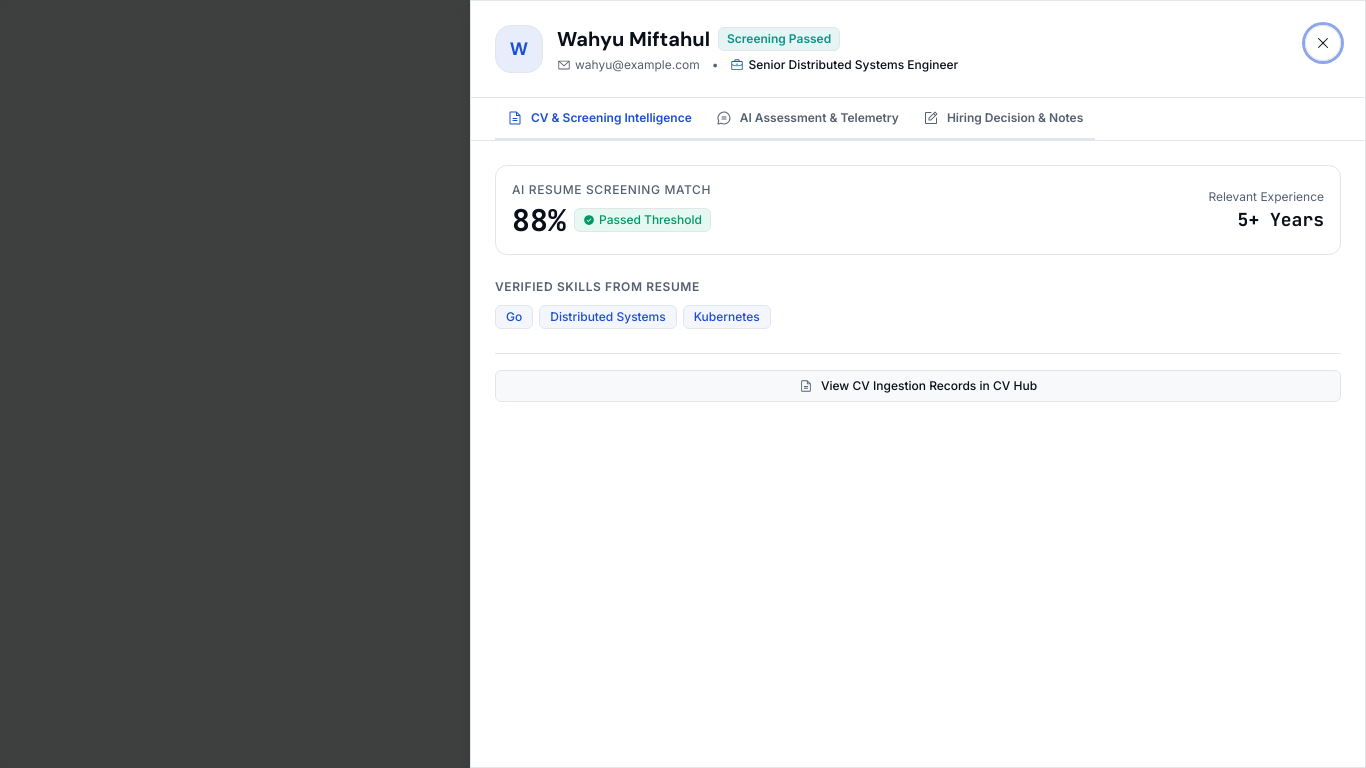
Candidate360Drawer Component › switches to Assessment tab and Decision tab seamlessly
The width and height of the screenshot is (1366, 768).
# Switch to assessment tab
Click the tab "AI Assessment & Telemetry" at (807, 119), box left=704, top=98, right=911, bottom=140
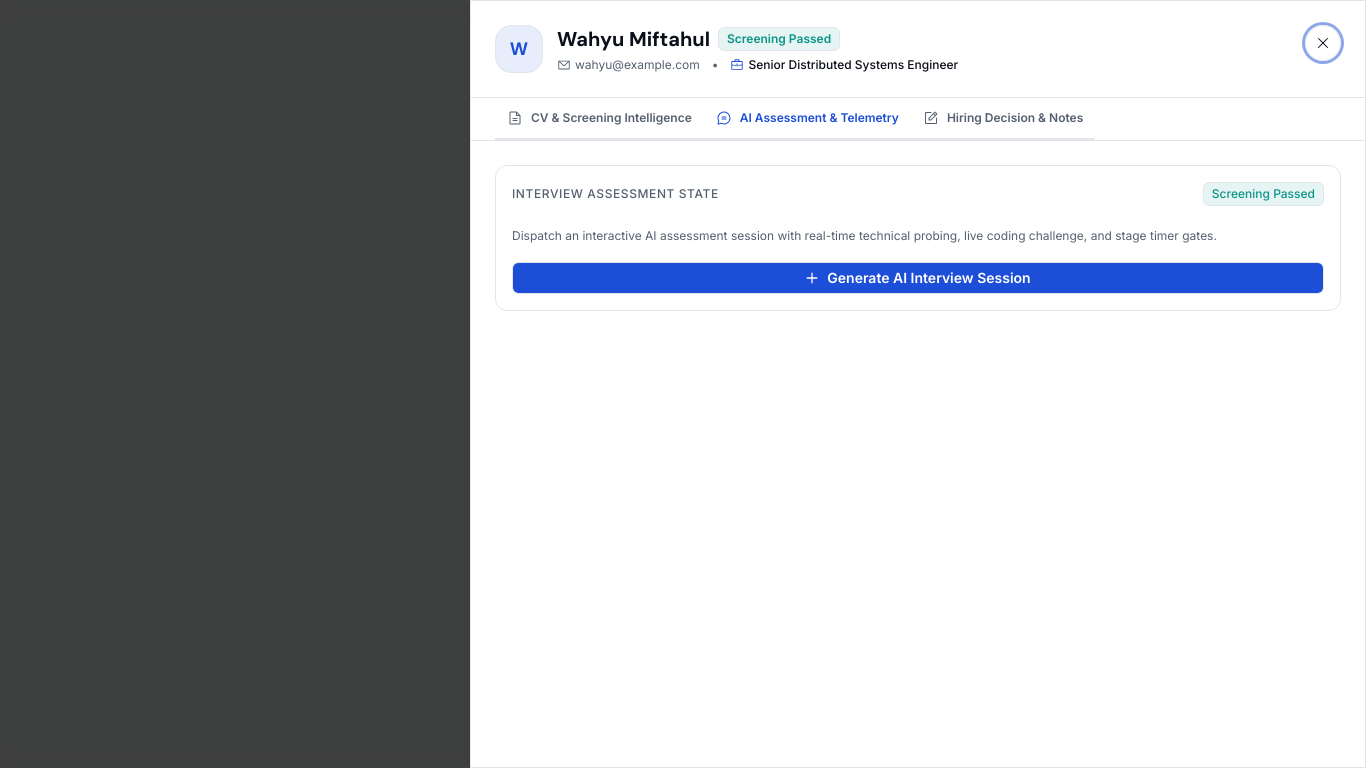
Now the text "Interview Assessment State" is shown, box left=512, top=186, right=719, bottom=202
Now the button "Generate AI Interview Session" is shown, box left=512, top=262, right=1324, bottom=294
# Switch to decision tab
Click the tab "Hiring Decision & Notes" at (1003, 119), box left=911, top=98, right=1095, bottom=140
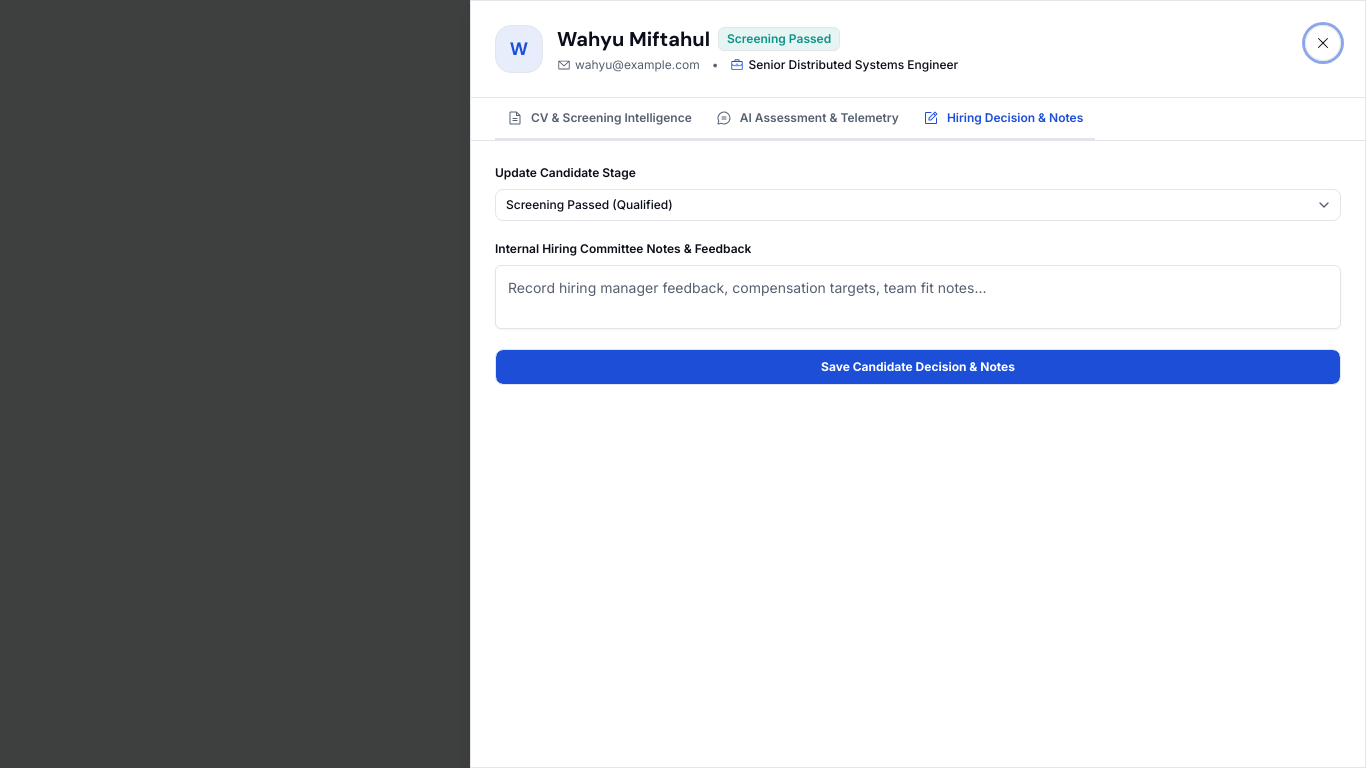
Now the text "Update Candidate Stage" is shown, box left=495, top=165, right=636, bottom=180
Now the button "Save Candidate Decision & Notes" is shown, box left=495, top=349, right=1341, bottom=385
